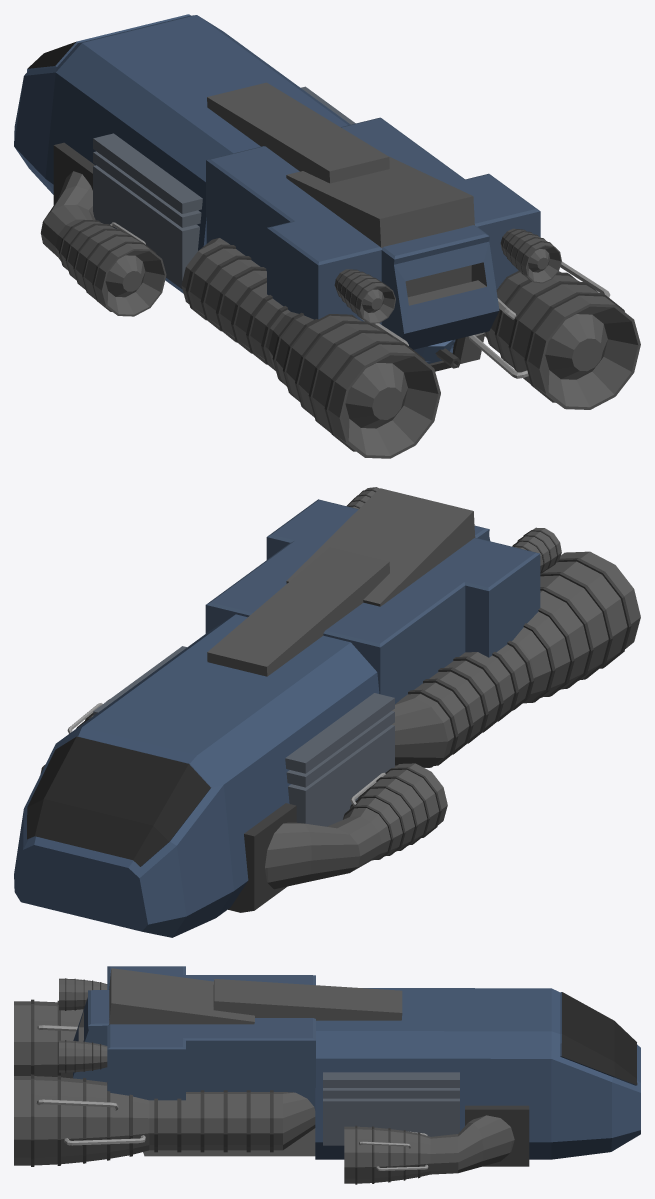
Rendered from star_ship.fbx.
3 renders of one model, top to bottom at view 1: azimuth 30°, elevation 25°; view 2: azimuth 150°, elevation 25°; view 3: azimuth 270°, elevation 25°, orthographic. The views are drawn at different scales.
Parts seen in each view (by area): view 1: Cylinder.005, Cube, Cube.002, Cylinder.002, Cube.004, Cube.003, Cube.006, Cube.008, Cylinder.001, Cube.007, Cube.009, Turret; view 2: Cube.002, Cube, Cylinder.005, Cylinder.002, Cube.003, Cube.004, Cube.006, Cube.008, Cube.009, Cylinder.001, Cube.007; view 3: Cube.002, Cylinder.005, Cube, Cylinder.002, Cube.003, Cube.004, Cube.006, Cube.008, Cube.009, Cylinder, Cube.001, Cube.007.
Boxes of the visible parts, x1=… form: Cylinder.005: x1=181, y1=228, x2=640, y2=458; Cube: x1=206, y1=117, x2=540, y2=349; Cube.002: x1=14, y1=14, x2=350, y2=293; Cylinder.002: x1=40, y1=171, x2=166, y2=316; Cube.004: x1=286, y1=157, x2=474, y2=247; Cube.003: x1=207, y1=82, x2=389, y2=183; Cube.006: x1=93, y1=165, x2=199, y2=288; Cube.008: x1=93, y1=86, x2=355, y2=213; Cylinder.001: x1=185, y1=244, x2=287, y2=370; Cube.007: x1=93, y1=151, x2=201, y2=227; Cube.009: x1=53, y1=142, x2=95, y2=205; Turret: x1=414, y1=340, x2=460, y2=368; Cube.002: x1=14, y1=614, x2=379, y2=937; Cube: x1=205, y1=499, x2=540, y2=703; Cylinder.005: x1=346, y1=487, x2=640, y2=767; Cylinder.002: x1=40, y1=699, x2=447, y2=889; Cube.003: x1=207, y1=547, x2=389, y2=676; Cube.004: x1=286, y1=488, x2=475, y2=606; Cube.006: x1=288, y1=725, x2=394, y2=826; Cube.008: x1=93, y1=646, x2=394, y2=773; Cube.009: x1=228, y1=803, x2=296, y2=912; Cylinder.001: x1=408, y1=640, x2=533, y2=765; Cube.007: x1=286, y1=711, x2=394, y2=787; Cube.002: x1=315, y1=988, x2=640, y2=1159; Cylinder.005: x1=14, y1=978, x2=315, y2=1166; Cube: x1=73, y1=966, x2=315, y2=1110; Cylinder.002: x1=344, y1=1115, x2=514, y2=1184; Cube.003: x1=213, y1=979, x2=402, y2=1020; Cube.004: x1=109, y1=968, x2=254, y2=1024; Cube.006: x1=323, y1=1098, x2=459, y2=1145; Cube.008: x1=323, y1=1072, x2=459, y2=1087; Cube.009: x1=465, y1=1105, x2=529, y2=1166; Cylinder: x1=154, y1=1090, x2=273, y2=1152; Cube.001: x1=143, y1=1128, x2=315, y2=1156; Cube.007: x1=323, y1=1088, x2=459, y2=1098.
Size of the model in its own units: 9826 by 5292 by 19734.
